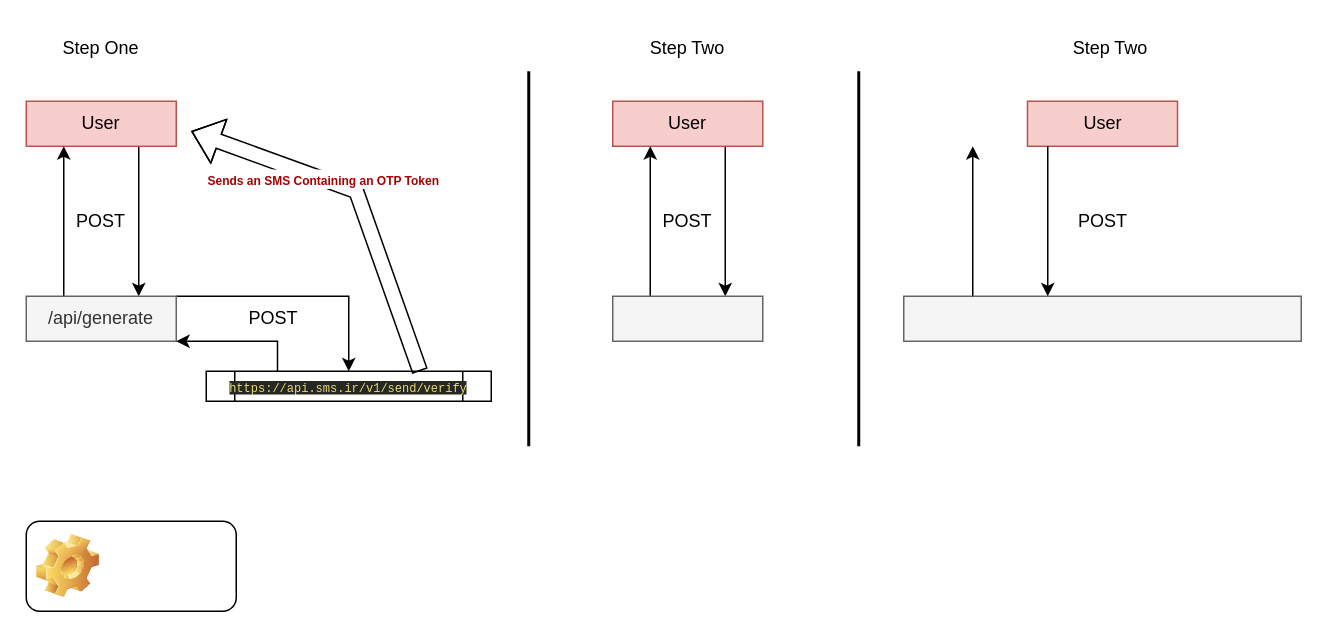
Image size: 1328x638. Some labels were removed from this diagram. Each missing label, with the centre of its shape:
"/api/generate/{generate}/vote/{vote}" belongs at (1101,318).
"/api/verify" belongs at (687,318).
"OTP SMS Sender API" belongs at (130,565).
